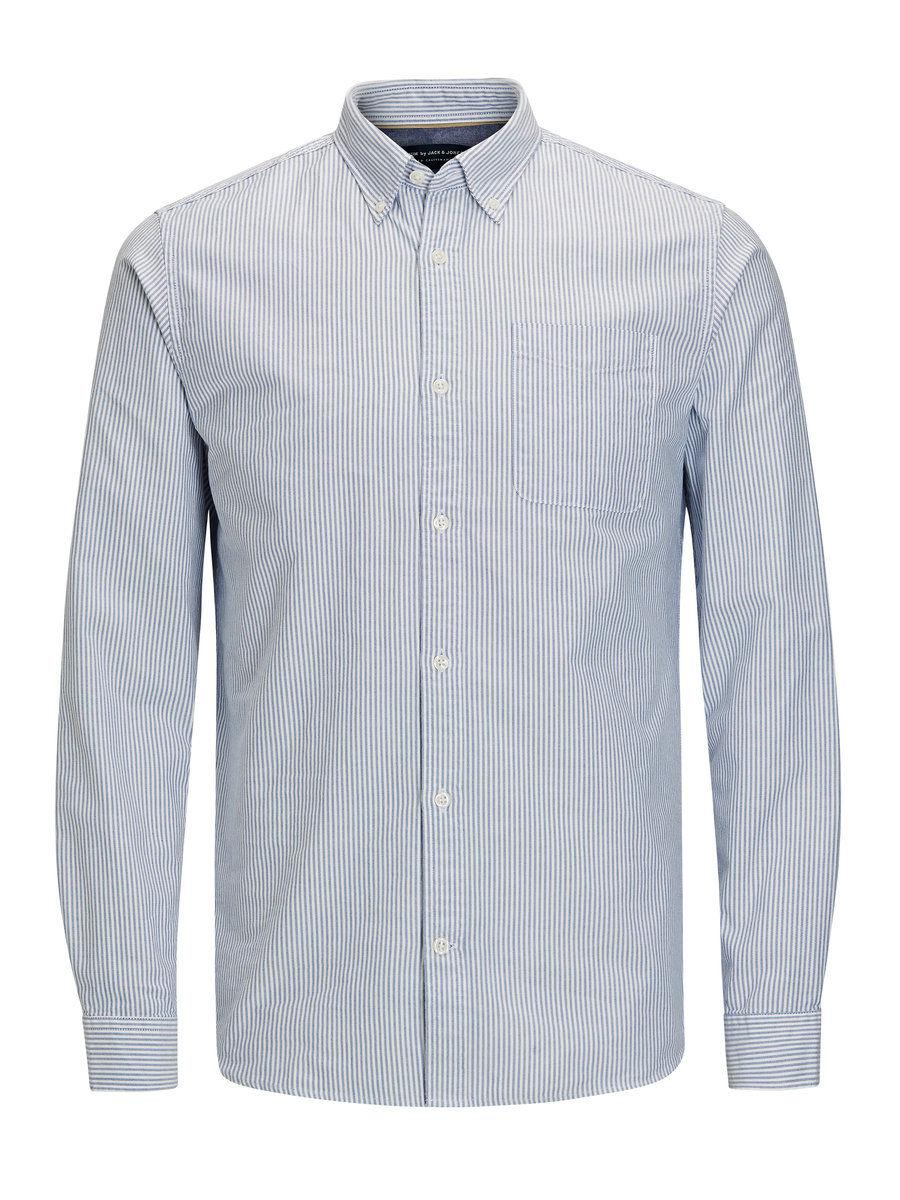teeshirt: (42, 69, 847, 1138)
